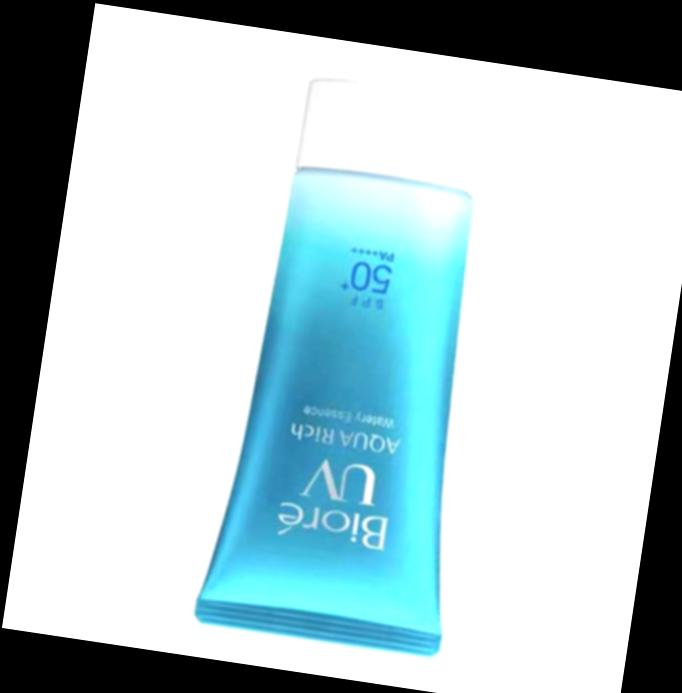cosmetic: (191, 66, 524, 661)
